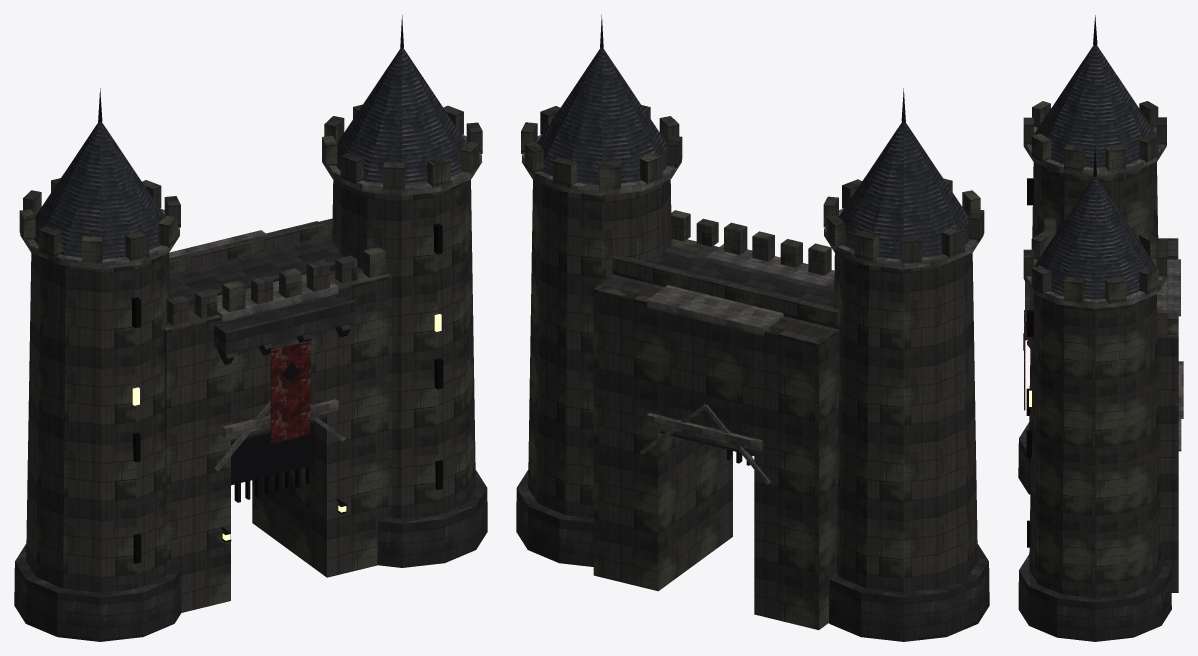
The model's file is Porton.gltf.
3 views of the same model, side by side, from view 1: azimuth 30°, elevation 25°; view 2: azimuth 150°, elevation 25°; view 3: azimuth 270°, elevation 25° (orthographic). The views are drawn at different scales.
Visible parts, largest first — view 1: Porton; view 2: Porton; view 3: Porton.
Part boxes in pixels (bbox=[...]): Porton: bbox=[14, 15, 487, 641]; Porton: bbox=[516, 15, 989, 641]; Porton: bbox=[1018, 15, 1183, 641].
Bounding box in the file's own units: 28.05 × 30.84 × 9.96.
Materials: 8 (5 with a texture image).
